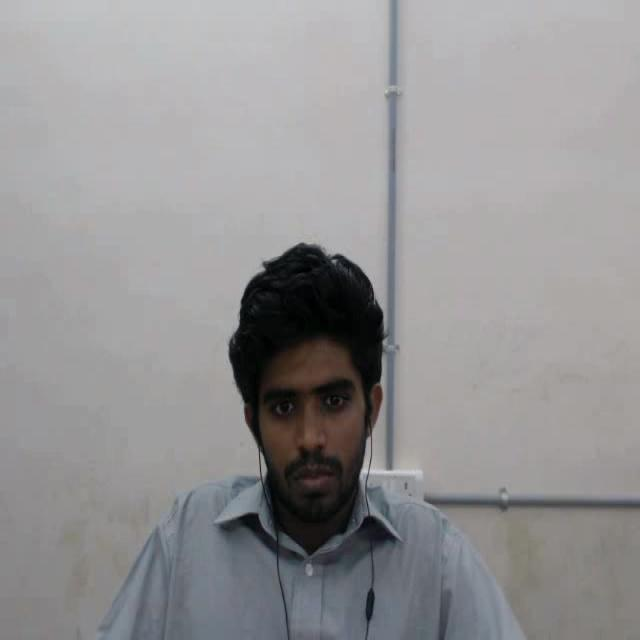Engaged: (211, 220, 398, 568)
